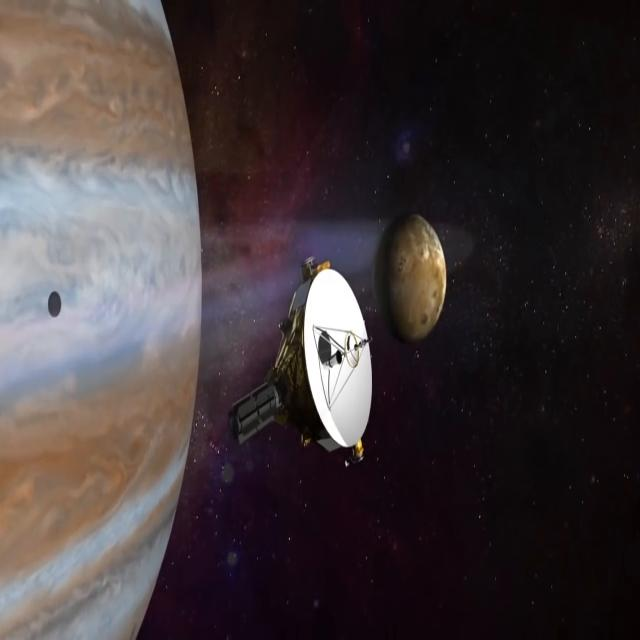satellite: (258, 251, 385, 510)
